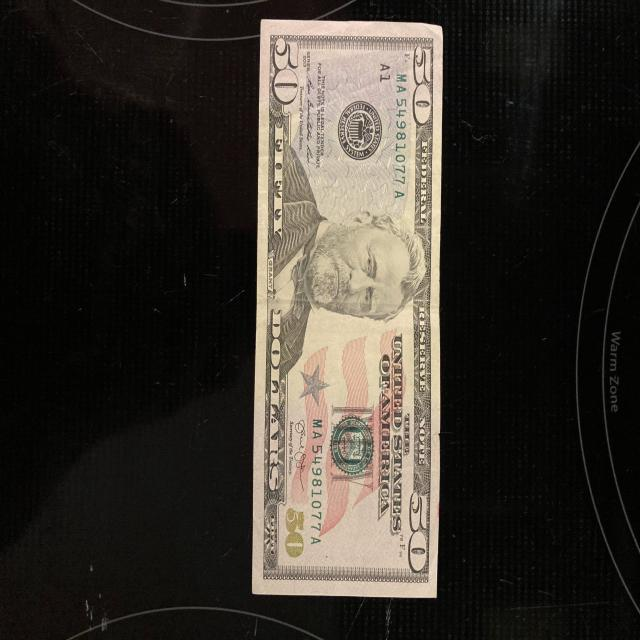fifty: (251, 20, 447, 597)
